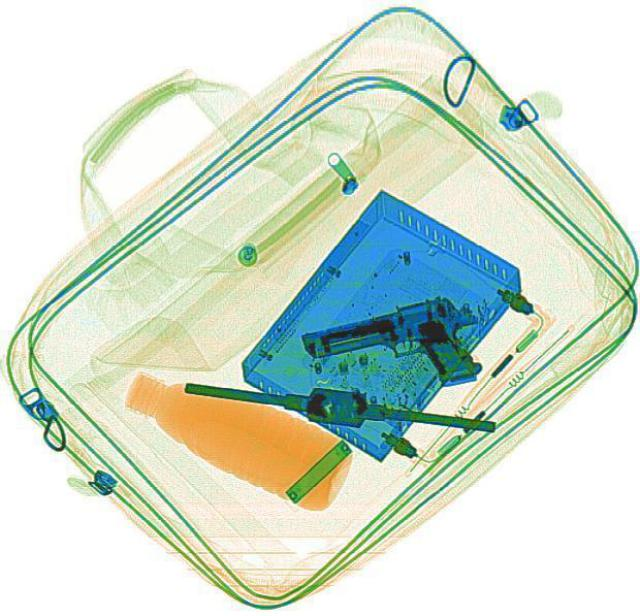Gun: (298, 286, 492, 412)
